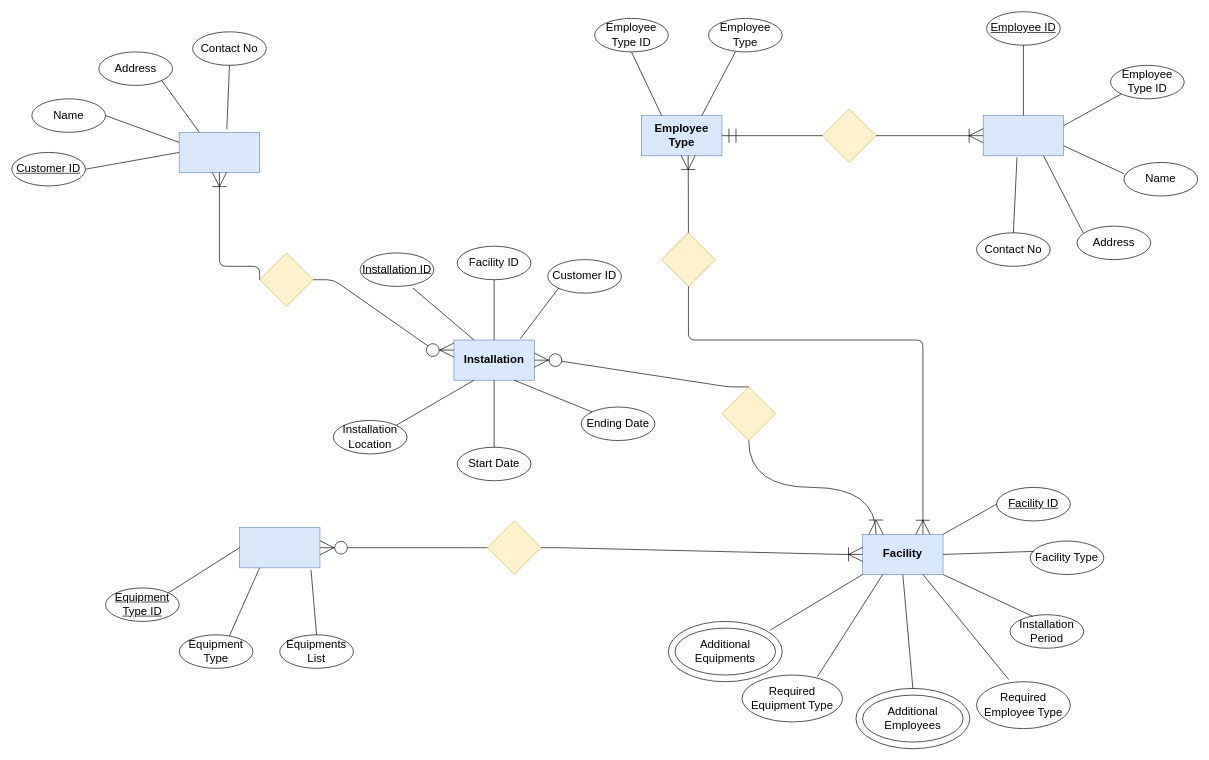
This 1209x760 diagram has some shape labels left out. The shapes that lost their labels are listed below. From the top down, each one's centre as x and y in pixels, then its label:
At point 219,152: "Customer".
At point 849,135: "Has".
At point 1023,135: "Employee".
At point 286,279: "Need".
At point 688,259: "Do".
At point 748,413: "Require".
At point 279,547: "Equipment Types".
At point 514,547: "Use".
